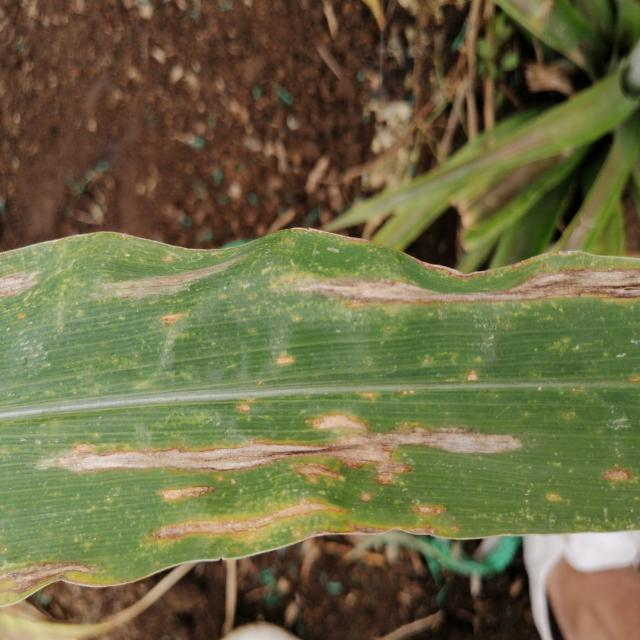Corn_Leaf_Blight: (9, 213, 640, 586)
